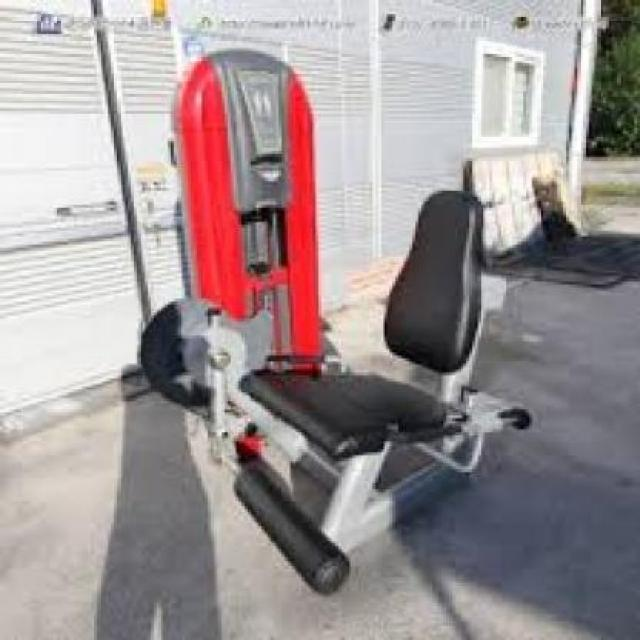leg extension: (126, 46, 543, 605)
